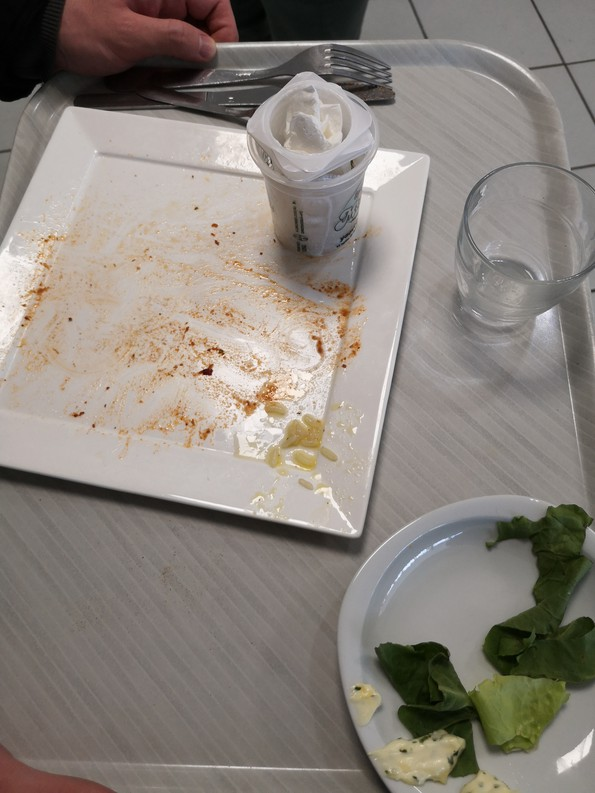cup: (447, 145, 595, 327)
cutlery: (31, 49, 409, 101)
orga: (388, 533, 595, 780)
trash: (252, 82, 388, 255)
